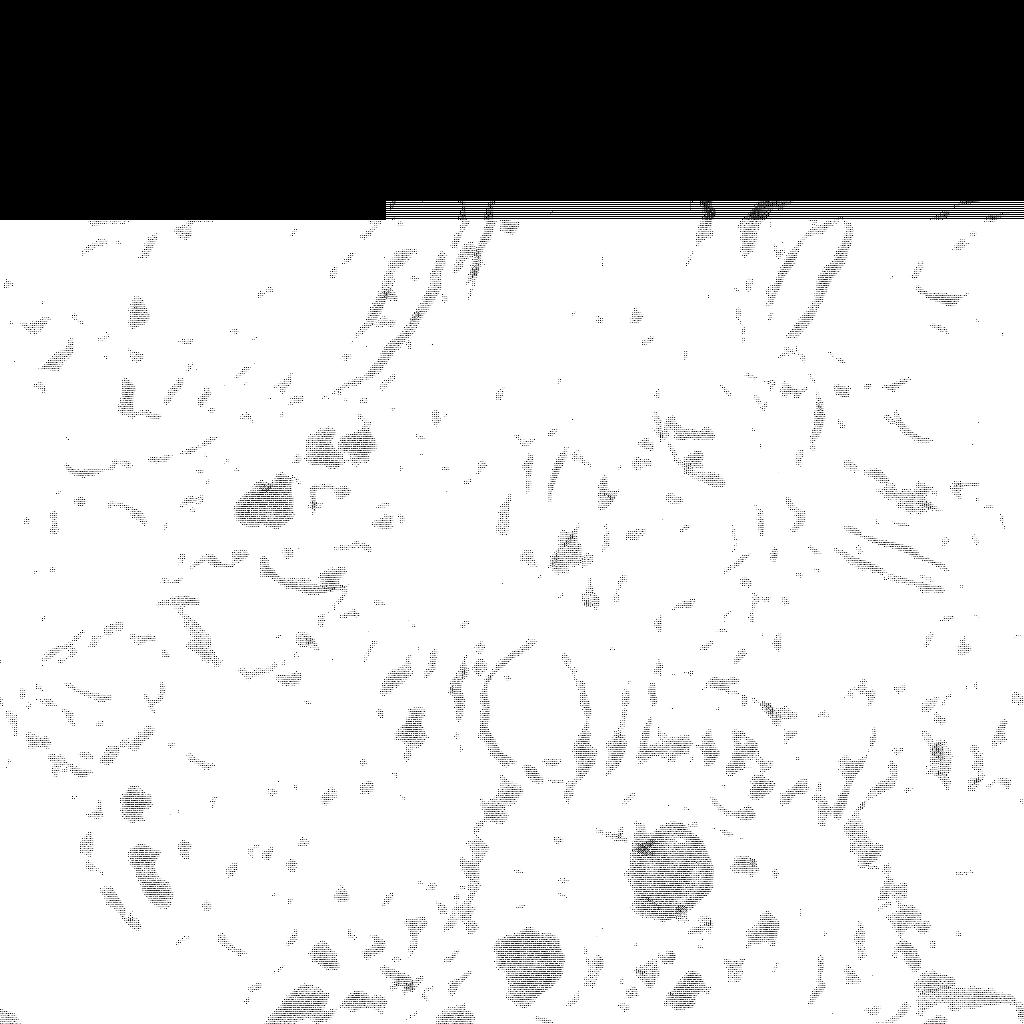axone: (621, 817, 722, 925), (488, 923, 567, 1012), (231, 466, 298, 535), (261, 975, 338, 1024), (295, 421, 347, 470), (335, 423, 379, 468)
